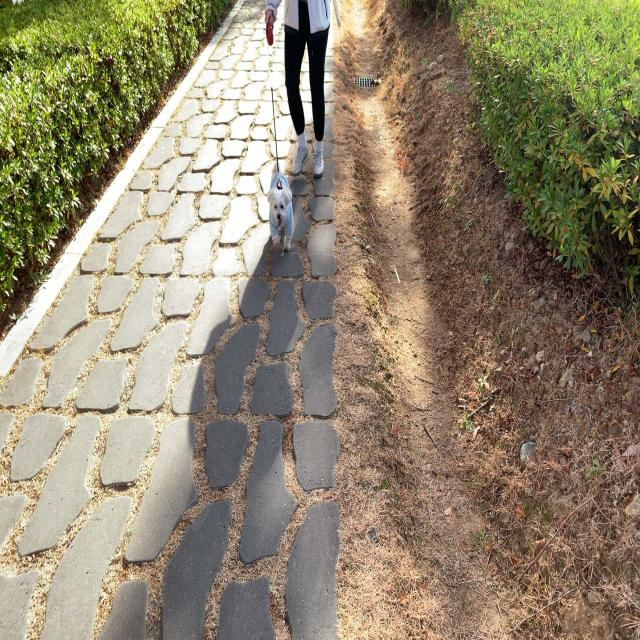Leashed_Dog: (263, 2, 295, 255)
